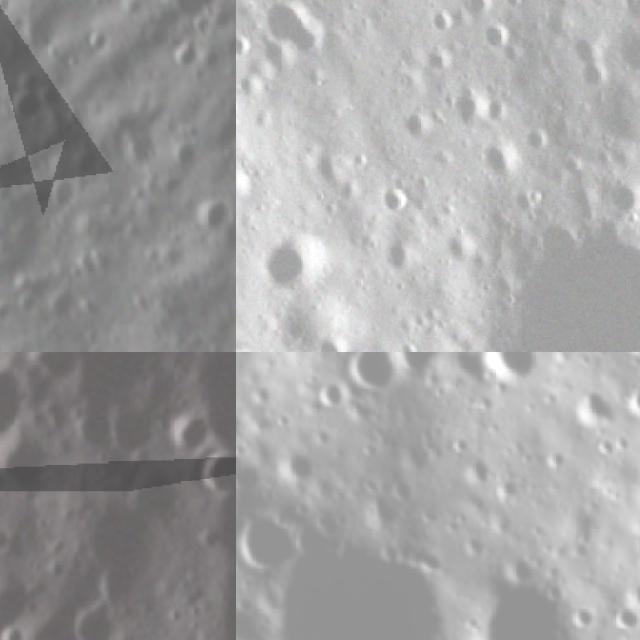crater: (411, 146, 640, 352), (272, 550, 472, 640), (245, 213, 338, 304), (488, 572, 610, 640), (240, 0, 336, 78), (0, 352, 48, 469), (47, 580, 136, 640), (153, 390, 225, 459), (236, 506, 305, 575), (436, 64, 504, 133), (181, 432, 236, 515), (468, 124, 532, 190), (345, 352, 427, 397), (558, 18, 614, 73), (363, 171, 417, 225), (368, 228, 421, 279), (594, 166, 640, 221), (568, 387, 627, 428), (389, 102, 438, 151), (516, 115, 562, 162), (572, 53, 618, 98), (474, 10, 518, 55), (42, 280, 78, 330), (306, 321, 361, 352), (236, 152, 263, 215), (0, 513, 30, 568), (420, 0, 461, 39), (194, 191, 232, 232), (144, 0, 218, 20), (0, 609, 45, 640), (276, 450, 320, 481), (6, 88, 39, 126), (177, 620, 236, 640), (451, 0, 502, 22), (236, 24, 257, 69), (236, 457, 265, 488), (317, 384, 353, 408), (626, 379, 640, 422), (630, 33, 640, 79)
